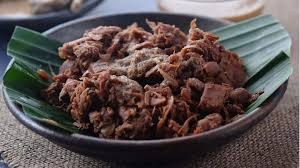Gudeg: (40, 20, 249, 140)
